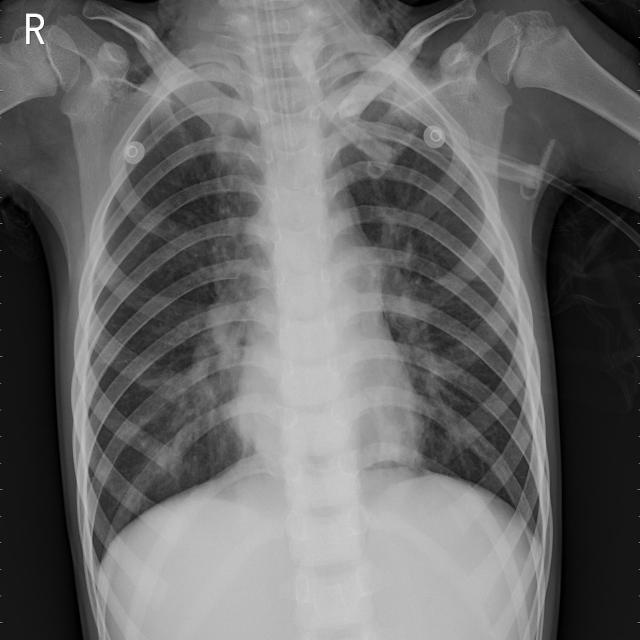low-pneumonia: (194, 101, 280, 397), (315, 51, 403, 157)
